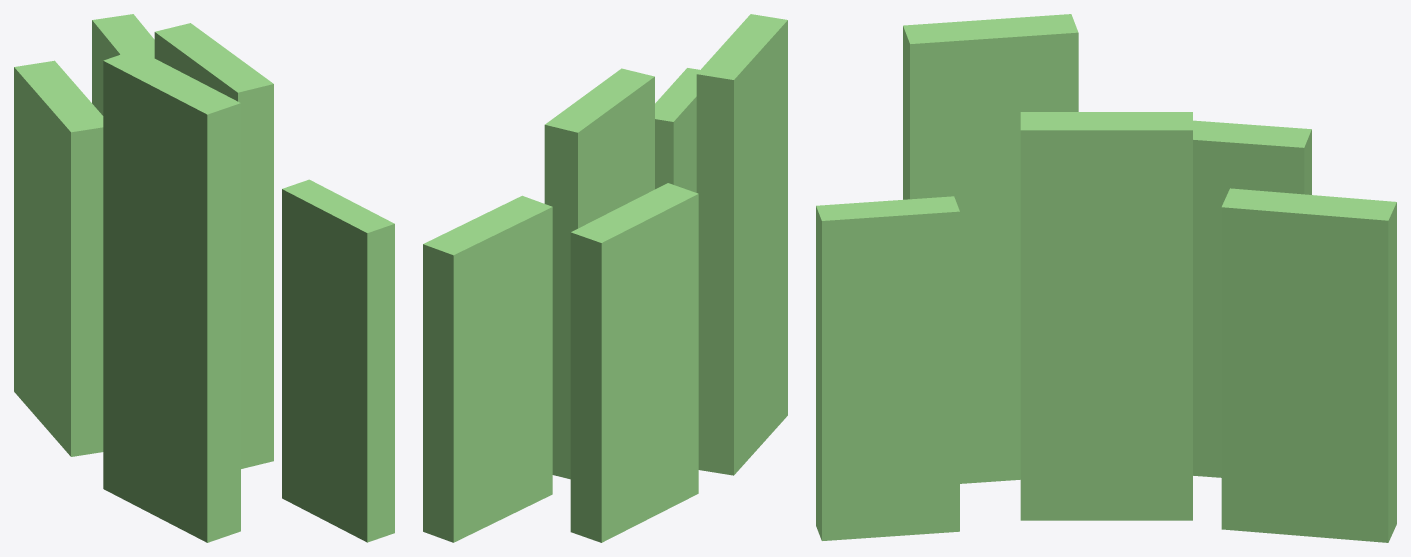
The model's file is grass.fbx.
The picture shows the model from 3 angles, left to right: view 1: azimuth 30°, elevation 25°; view 2: azimuth 150°, elevation 25°; view 3: azimuth 270°, elevation 25°; orthographic projection. The views are drawn at different scales.
Visible parts, largest first — view 1: Cube.003, Cube.004, Cube.002, Cube.001, Cube.005; view 2: Cube.002, Cube.005, Cube.003, Cube.001, Cube.004; view 3: Cube.001, Cube.005, Cube.004, Cube.003, Cube.002.
Part boxes in pixels (x1,y1,x2,y2): Cube.003: (103, 49, 240, 542); Cube.004: (282, 179, 394, 542); Cube.002: (14, 60, 103, 456); Cube.001: (154, 23, 273, 468); Cube.005: (92, 14, 154, 115); Cube.002: (570, 183, 698, 542); Cube.005: (423, 195, 552, 542); Cube.003: (696, 14, 787, 475); Cube.001: (544, 68, 654, 479); Cube.004: (655, 68, 699, 192); Cube.001: (1020, 112, 1192, 520); Cube.005: (1221, 188, 1396, 542); Cube.004: (816, 196, 959, 540); Cube.003: (903, 14, 1078, 483); Cube.002: (1193, 120, 1311, 477).
Bounding box in the file's own units: 40.73 × 90.84 × 108.
